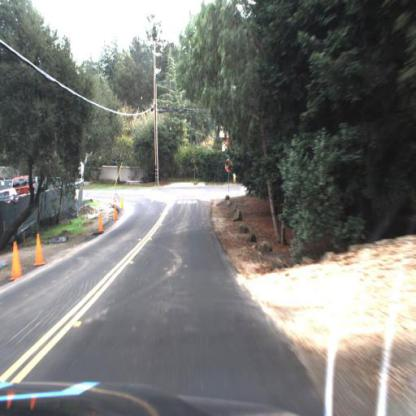car: (12, 171, 37, 202)
